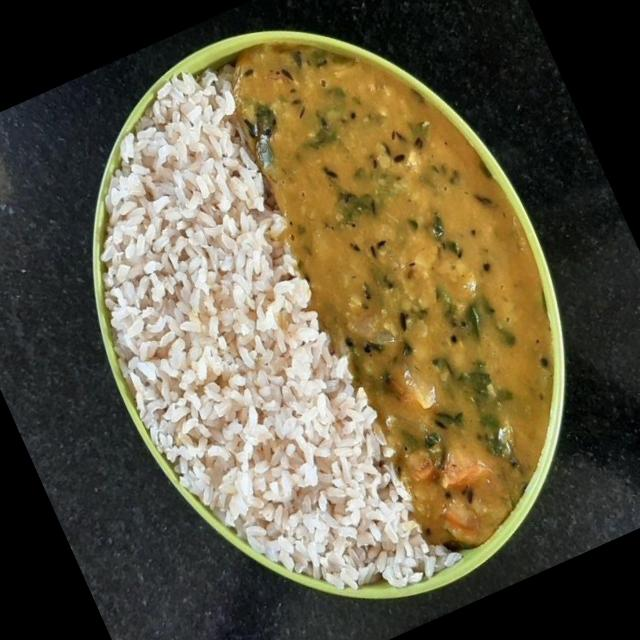dal: (231, 0, 632, 553)
rice: (20, 62, 440, 640)
